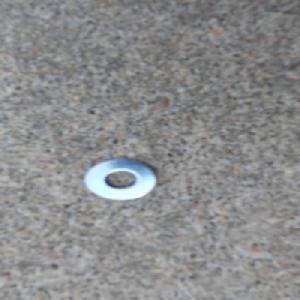Washer: (79, 155, 160, 203)
